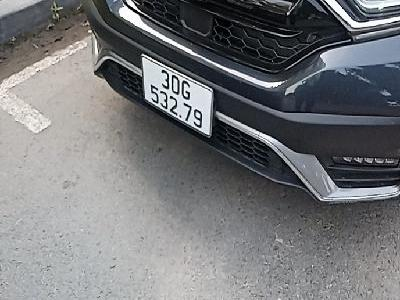car: (139, 52, 214, 138)
